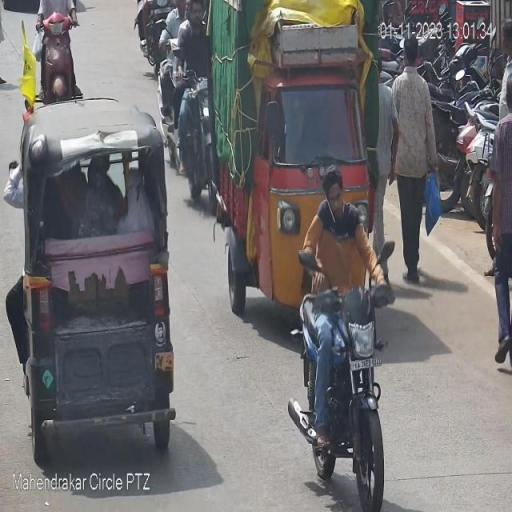using mobile: (324, 188, 338, 231)
